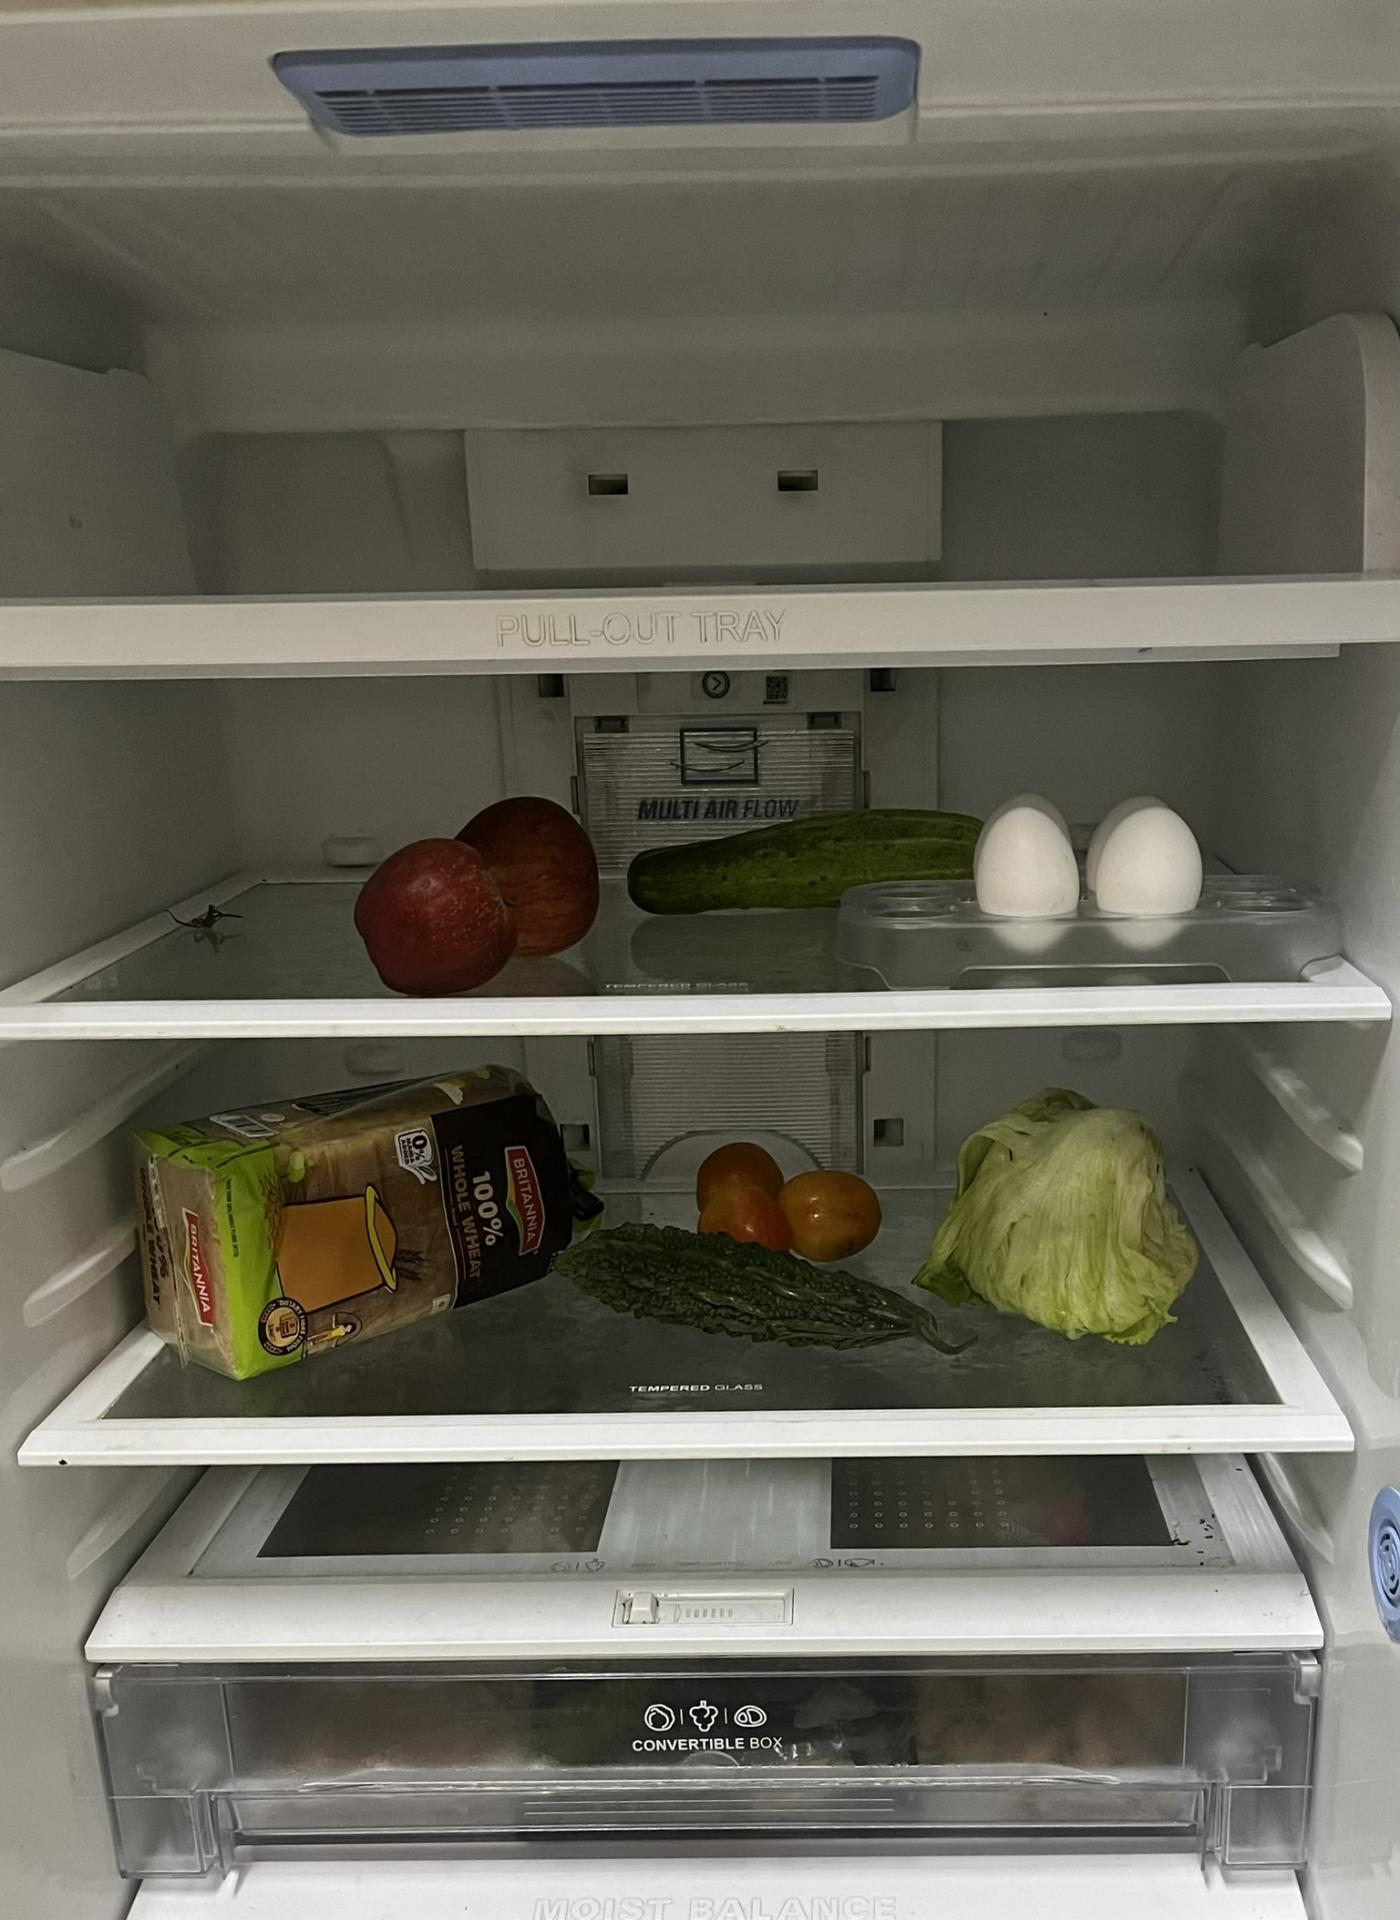apple: (346, 798, 620, 997)
bread: (131, 1085, 586, 1404)
cucumber: (626, 806, 1033, 903)
egg: (972, 781, 1218, 960)
lettuce: (930, 1094, 1209, 1368)
tomato: (699, 1131, 878, 1257)
